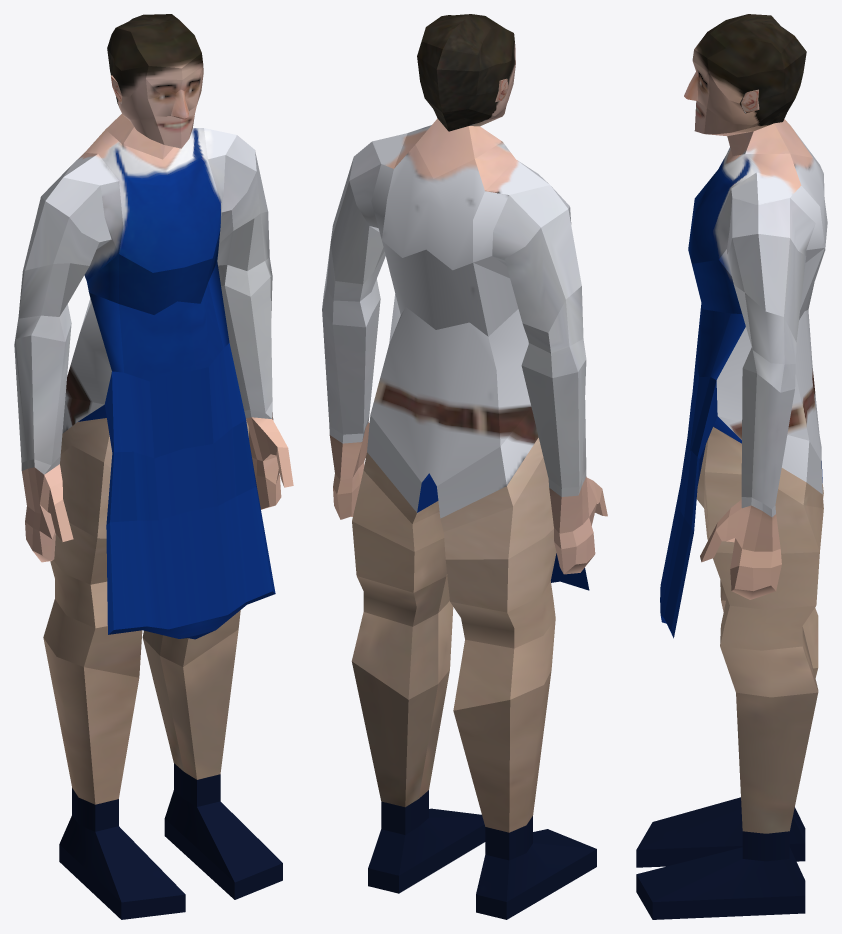
The model's file is Gas_station_clerk.fbx.
The picture shows the model from 3 angles, left to right: view 1: azimuth 30°, elevation 25°; view 2: azimuth 150°, elevation 25°; view 3: azimuth 270°, elevation 25°; orthographic projection. The views are drawn at different scales.
Parts seen in each view (by area): view 1: pCube11; view 2: pCube11; view 3: pCube11.
Boxes of the visible parts, left/top/right/bottom form: pCube11: left=14, top=14, right=293, bottom=919; pCube11: left=322, top=14, right=607, bottom=919; pCube11: left=636, top=14, right=827, bottom=919.
Size of the model in its own units: 49.86 by 157 by 31.65.
